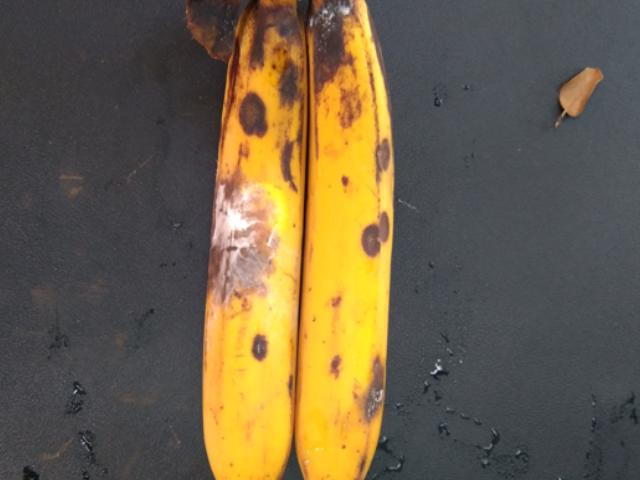overripe: (171, 20, 321, 479), (289, 8, 401, 474)
rotten: (193, 175, 302, 356)
